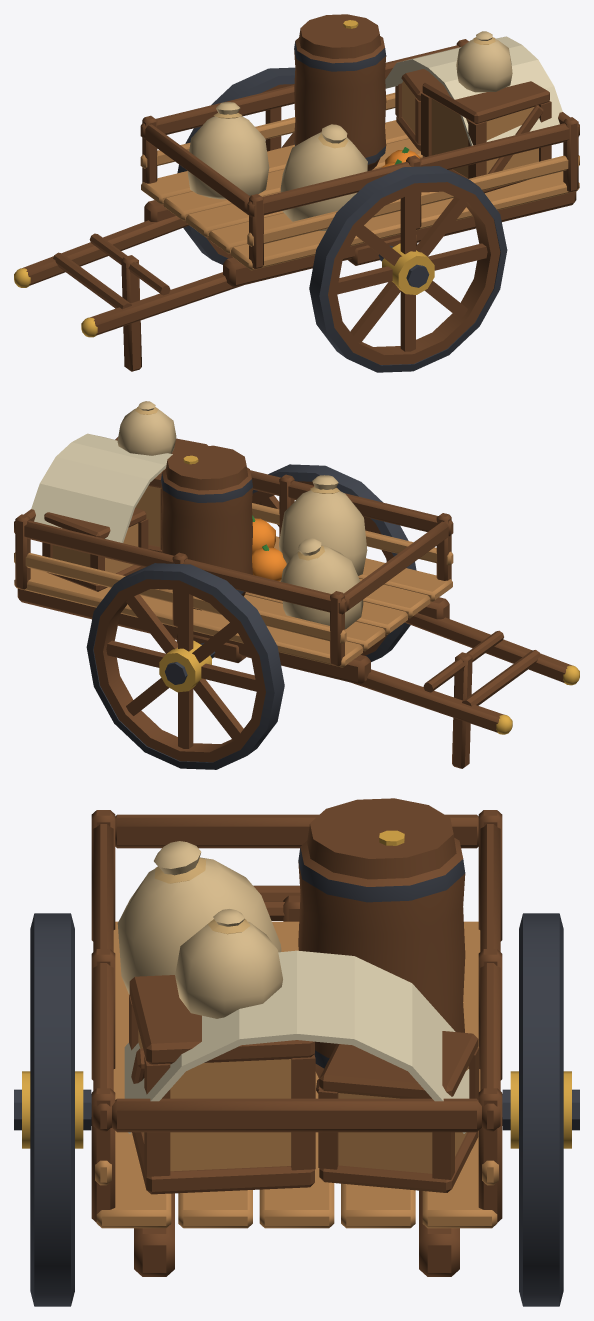
The model's file is prop_cart.glb.
The picture shows the model from 3 angles, top to bottom: view 1: azimuth 30°, elevation 25°; view 2: azimuth 150°, elevation 25°; view 3: azimuth 270°, elevation 25°; orthographic projection. The views are drawn at different scales.
Visible parts, largest first — view 1: Cart; view 2: Cart; view 3: Cart.
Boxes of the visible parts, left/top/right/bottom form: Cart: left=14, top=14, right=579, bottom=372; Cart: left=14, top=401, right=579, bottom=769; Cart: left=14, top=798, right=579, bottom=1306.
Size of what is drawn, in the model's own units: 2.99 by 1.58 by 1.67.
